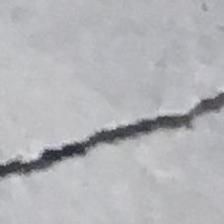Crack: (2, 86, 224, 203)
